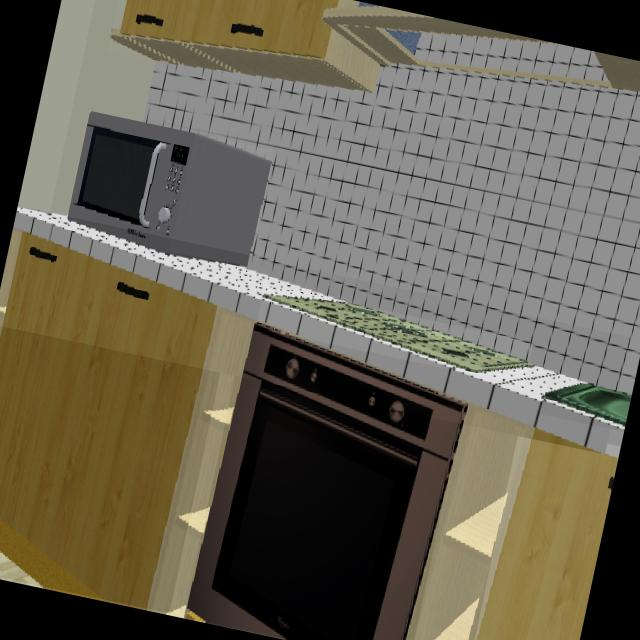cabinet: (0, 233, 228, 609), (110, 0, 507, 92), (476, 428, 618, 640)
countertop: (12, 207, 617, 454)
microwave: (72, 114, 268, 266)
oven: (186, 325, 462, 640)
sink: (544, 384, 631, 431)
stove: (262, 291, 528, 376)
